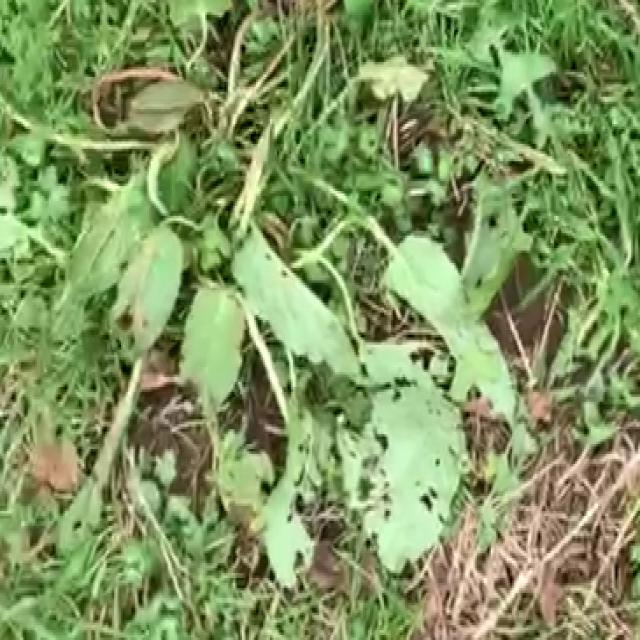organic waste: (67, 69, 580, 603)
